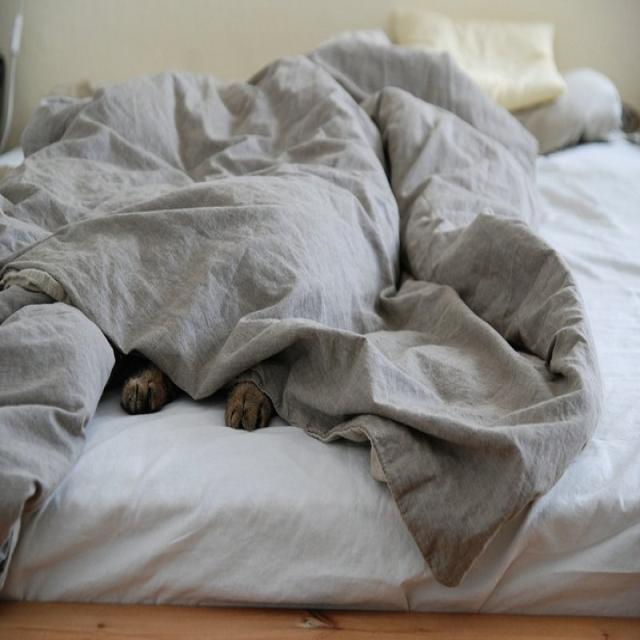blanket: (1, 57, 602, 585)
